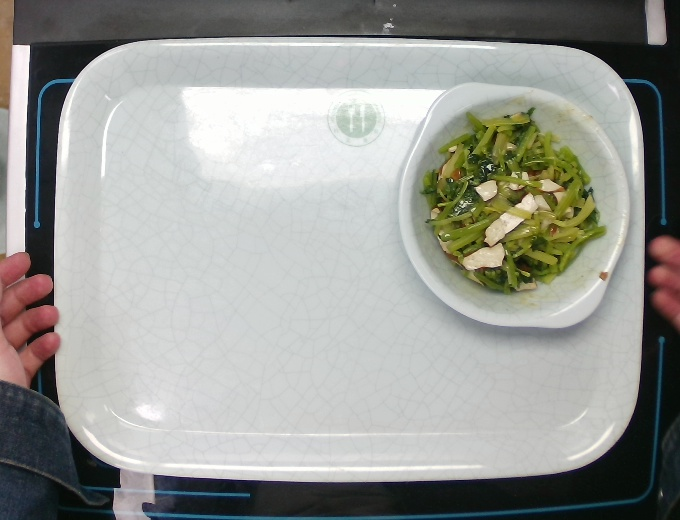JYsf-Shuang_Er_Wan: (394, 79, 633, 332)
